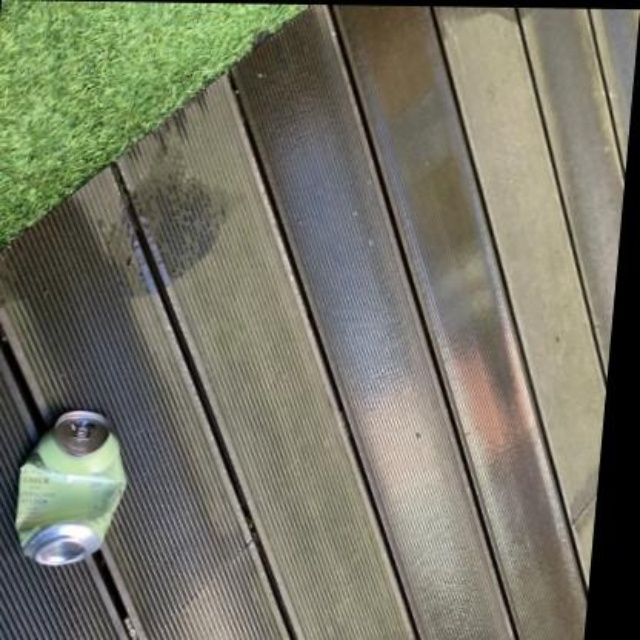trash: (15, 411, 125, 565)
